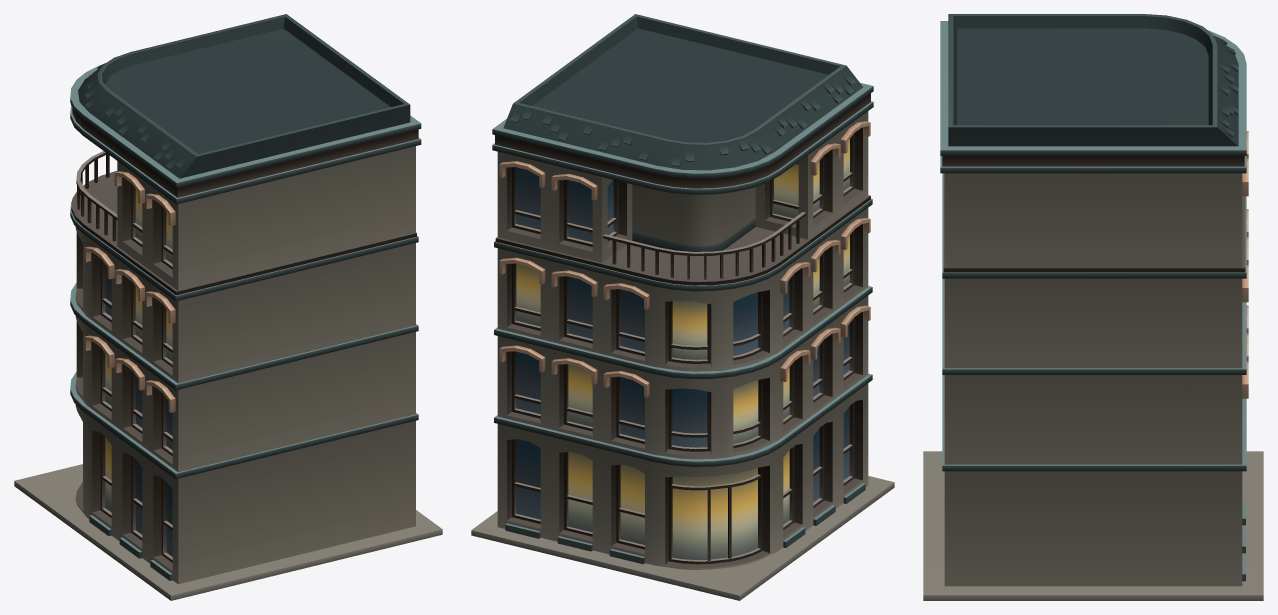
File: Building_20C.fbx
3 renders of one model, left to right at view 1: azimuth 30°, elevation 25°; view 2: azimuth 150°, elevation 25°; view 3: azimuth 270°, elevation 25°, orthographic. The views are drawn at different scales.
Visible parts, largest first — view 1: Building_20C, Window_Lights_20C; view 2: Building_20C, Window_Lights_20C; view 3: Building_20C.
Part boxes in pixels (<box>): Building_20C: <box>14,14,442,600</box>; Window_Lights_20C: <box>105,189,172,512</box>; Building_20C: <box>471,14,894,600</box>; Window_Lights_20C: <box>516,139,849,559</box>; Building_20C: <box>923,14,1263,600</box>.
Bounding box in the file's own units: 1600 × 2400 × 1600.
